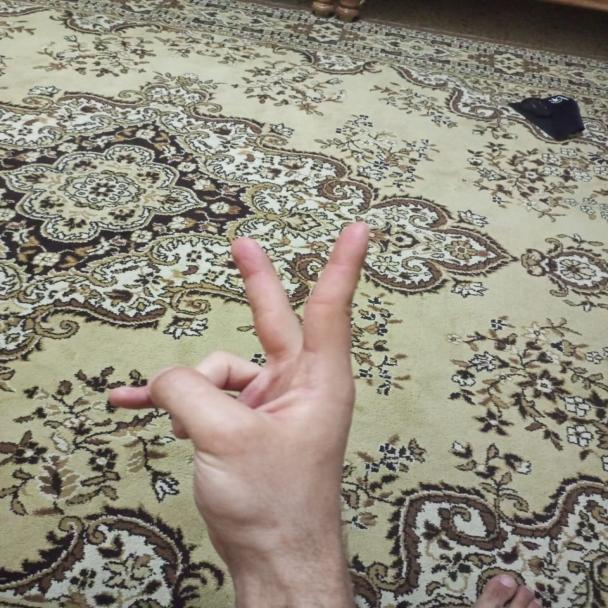two: (144, 232, 398, 585)
